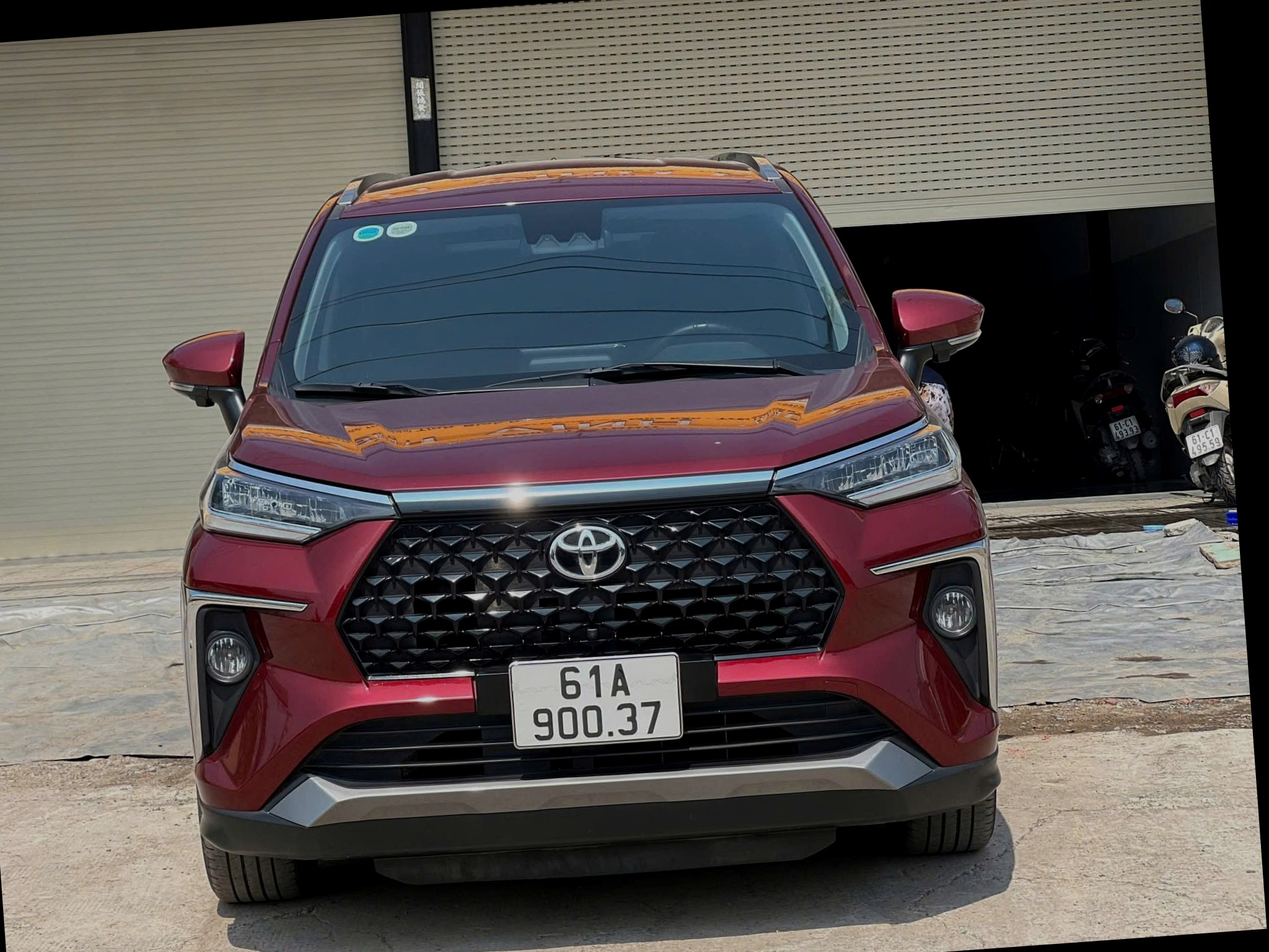Bien-so: (481, 652, 671, 745)
